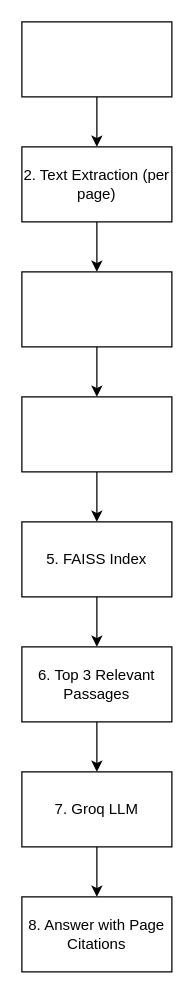
This 194x994 diagram has some shape labels left out. Each missing label, with the centre of its shape:
"1. PDF Upload" belongs at (x=96, y=59).
"3. Text Chunks" belongs at (x=96, y=309).
"4. Embeddings" belongs at (x=96, y=434).
